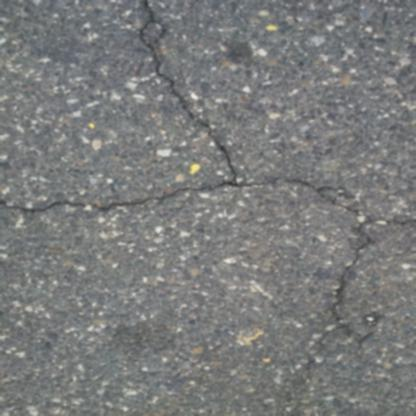Cracks: (123, 0, 255, 194), (0, 172, 416, 230), (318, 211, 390, 352)
